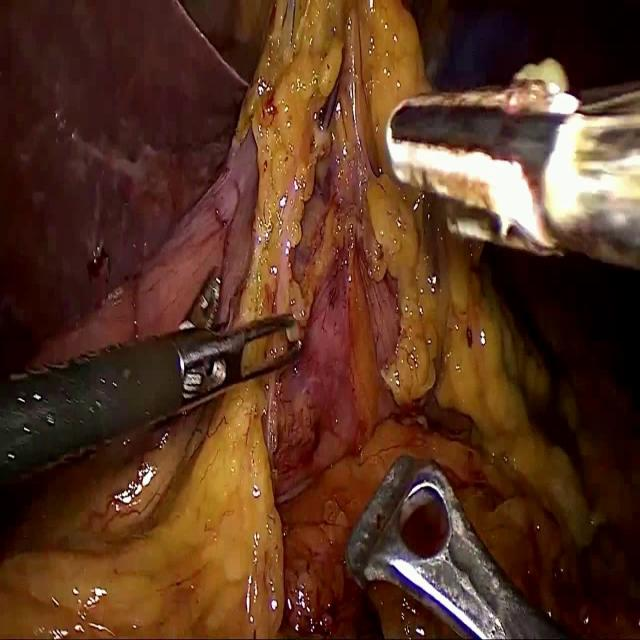surgical-tool: (0, 311, 304, 489), (385, 78, 640, 267), (345, 453, 590, 639)
